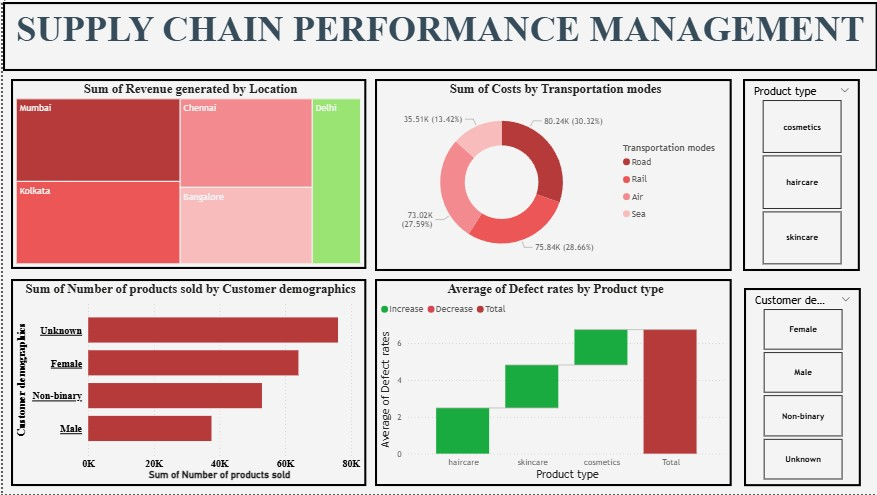

The page's visual inventory and layout, read from the dashboard file:
{"tool":"powerbi","page":{"name":"Page 2","canvas":[1280,720],"ordinal":1},"visuals":[{"type":"treemap","fields":{"Group":["supply chain management final d.Location"],"Values":["Sum(supply chain management final d.Revenue generated)"]},"box":[11.7,101,496.1,278],"z":0},{"type":"barChart","fields":{"Category":["supply chain management final d.Customer demographics"],"Y":["Sum(supply chain management final d.Number of products sold)"]},"box":[0,414.1,493.2,305.9],"z":1000},{"type":"donutChart","fields":{"Category":["supply chain management final d.Transportation modes"],"Y":["Sum(supply chain management final d.Costs)"]},"box":[598.5,101,485.9,292.7],"z":2000},{"type":"kpi","fields":{"TrendLine":["supply chain management final d.Product type"],"Indicator":["CountNonNull(supply chain management final d.Defect rates)"]},"box":[598.5,414.1,474.1,304.4],"z":3000},{"type":"slicer","fields":{"Values":["supply chain management final d.Product type"]},"box":[1084.4,101,171.2,278],"z":4000},{"type":"slicer","fields":{"Values":["supply chain management final d.Customer demographics"]},"box":[1084.4,414.1,171.2,279.5],"z":5000},{"type":"textbox","box":[0,0,1280.5,101],"z":6000}]}

Visuals, with their boxes in screenshot pixels (x1, y1, x2, y2), scaled from the page's 1280x720 canvas onto the 877x495 screenshot:
treemap - supply chain management final d.Location x Sum(supply chain management final d.Revenue generated): (8,69,348,261)
barChart - supply chain management final d.Customer demographics x Sum(supply chain management final d.Number of products sold): (0,285,338,494)
donutChart - supply chain management final d.Transportation modes x Sum(supply chain management final d.Costs): (410,69,743,271)
kpi - supply chain management final d.Product type x CountNonNull(supply chain management final d.Defect rates): (410,285,735,494)
slicer - supply chain management final d.Product type: (743,69,860,261)
slicer - supply chain management final d.Customer demographics: (743,285,860,477)
textbox: (0,0,876,69)
